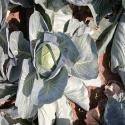cabbage: (32, 39, 68, 74)
